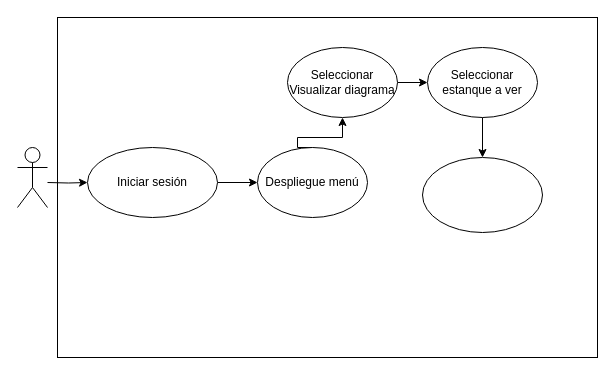
This 615x375 diagram has some shape labels left out. The box of each missing label's shape, as (x1, y1, x2, y2) in pixels:
User: (16, 146, 48, 208)
Visualizar capacidad del estanque: (422, 156, 542, 232)
